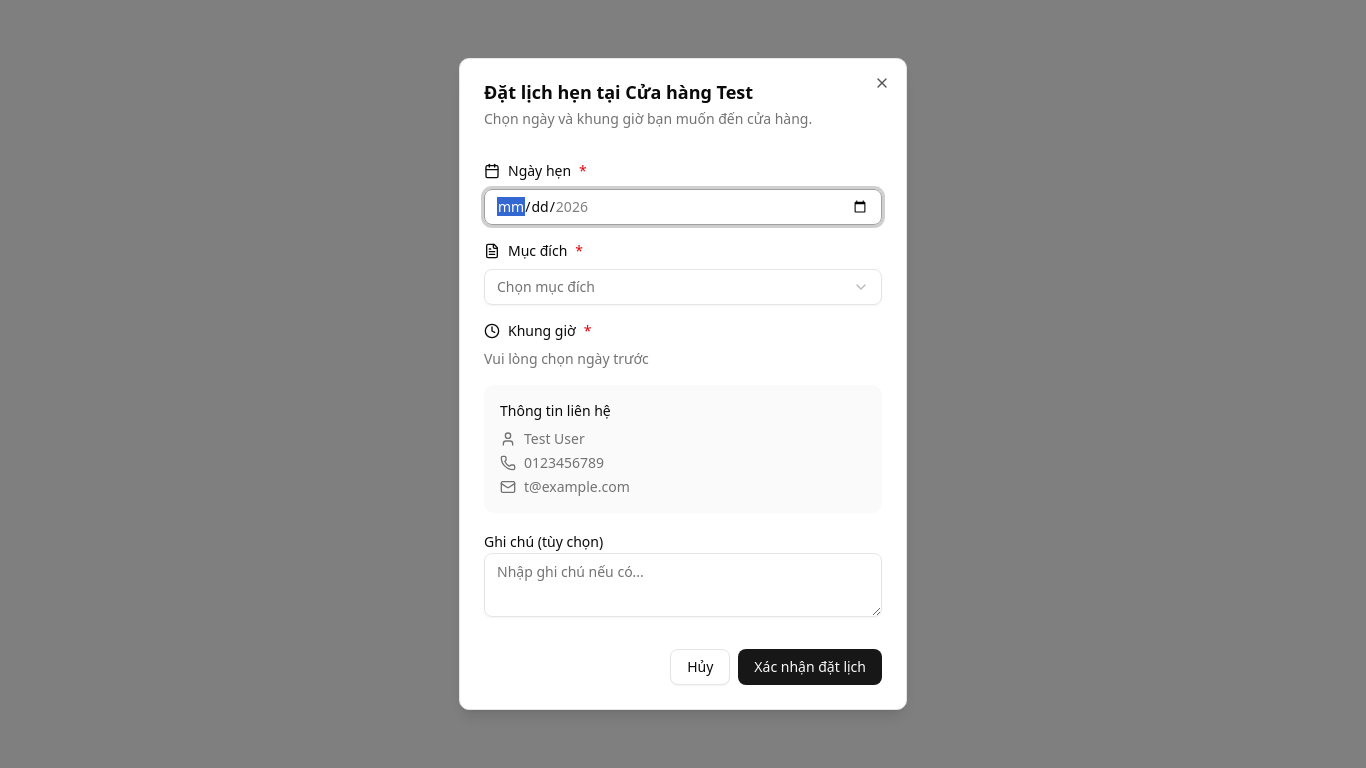
Scenario: Slot region live semantics (M11, M12) › exposes the slot fetch failure as role="alert"
This screenshot has width=1366, height=768.
Type "2099-12-25" into the date field labelled "Ngày hẹn *" at (683, 207), box [484, 189, 882, 225]
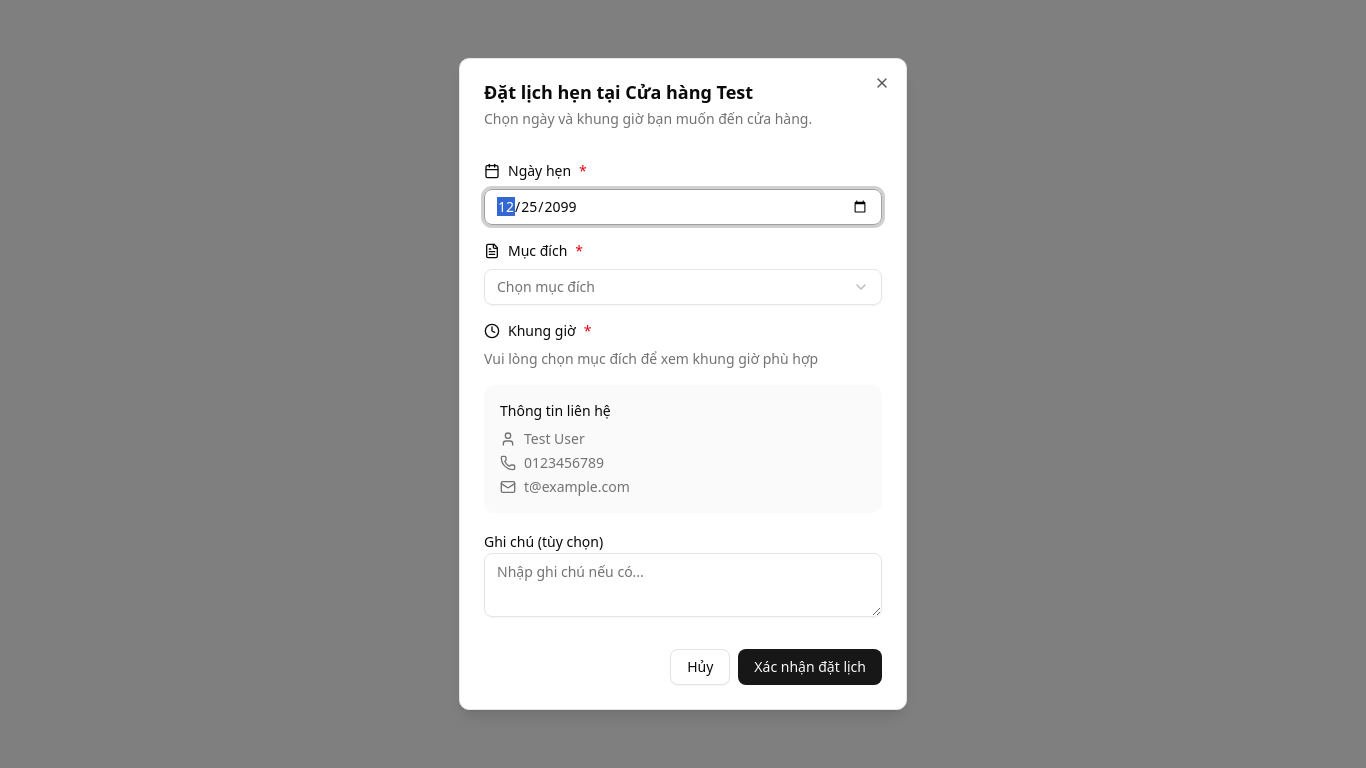
Click the dropdown at (546, 286), box [484, 269, 882, 305]
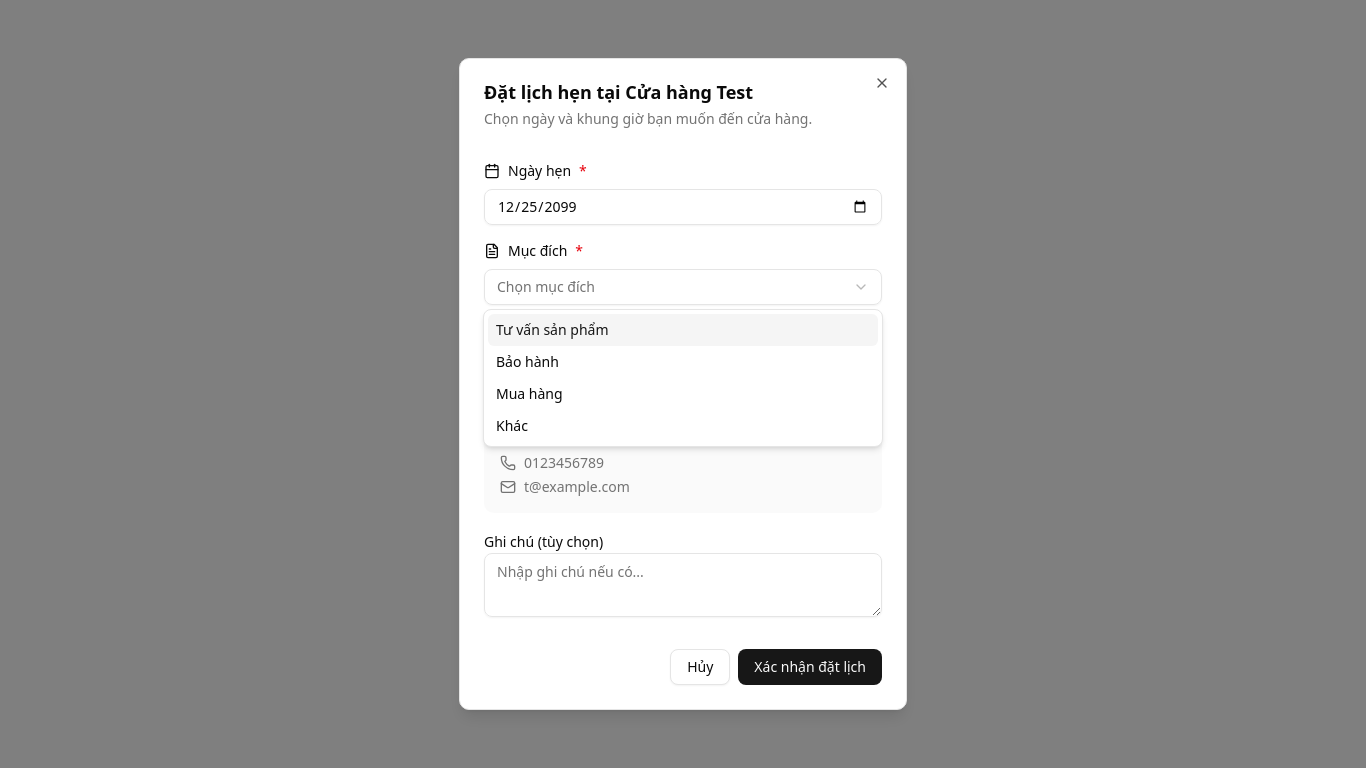
Click the option "Tư vấn sản phẩm" at (552, 330), box [488, 314, 878, 346]
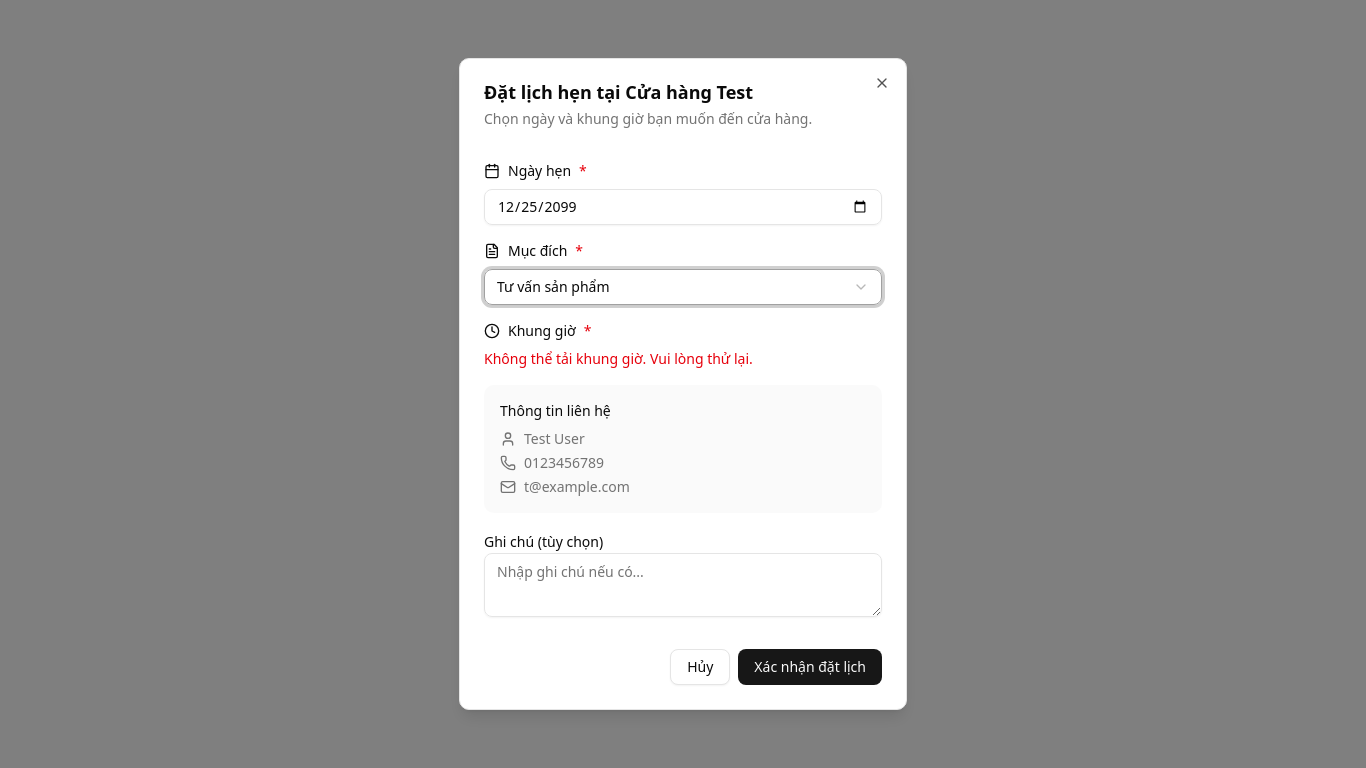
Check: the message reads "Không thể tải khung giờ. Vui lòng thử lại.", box [484, 349, 753, 368]
